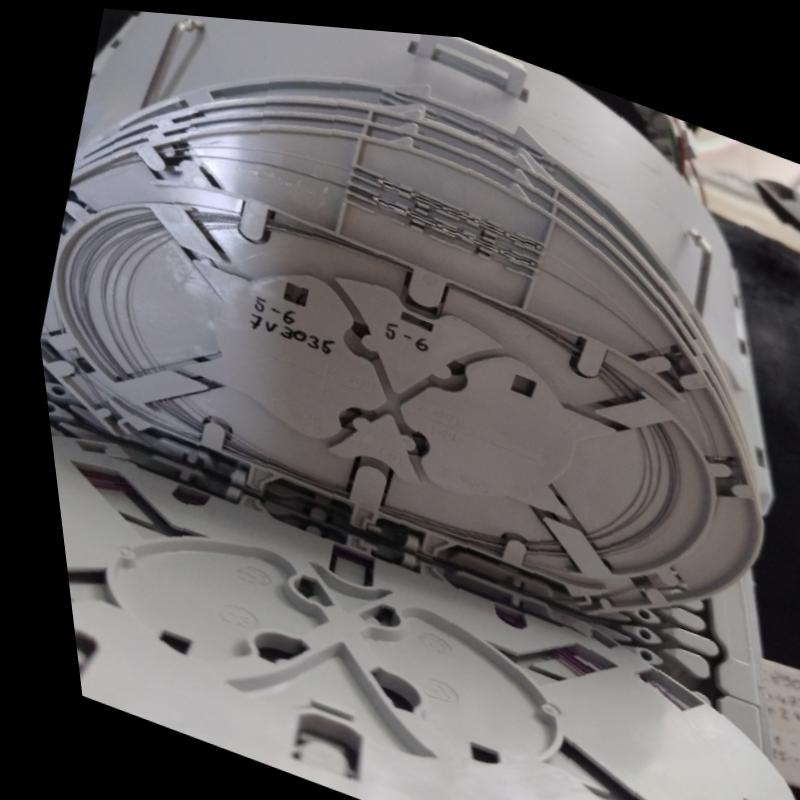NT-Muffen: (32, 8, 784, 800)
